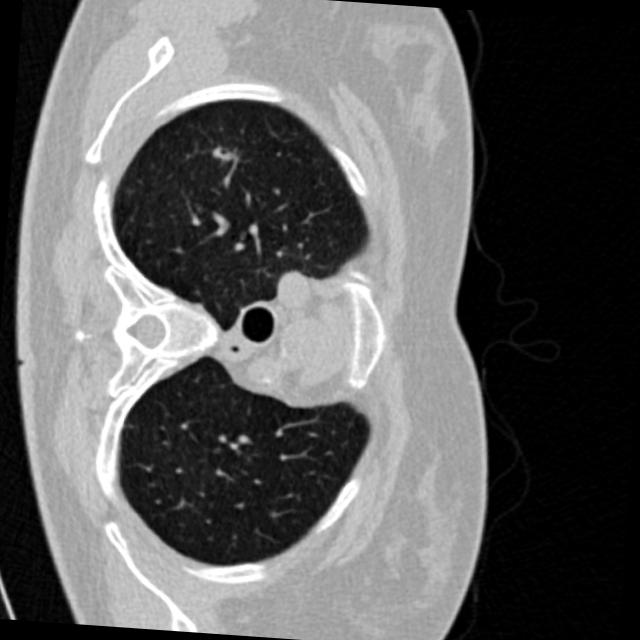nodule: (205, 134, 242, 170)
